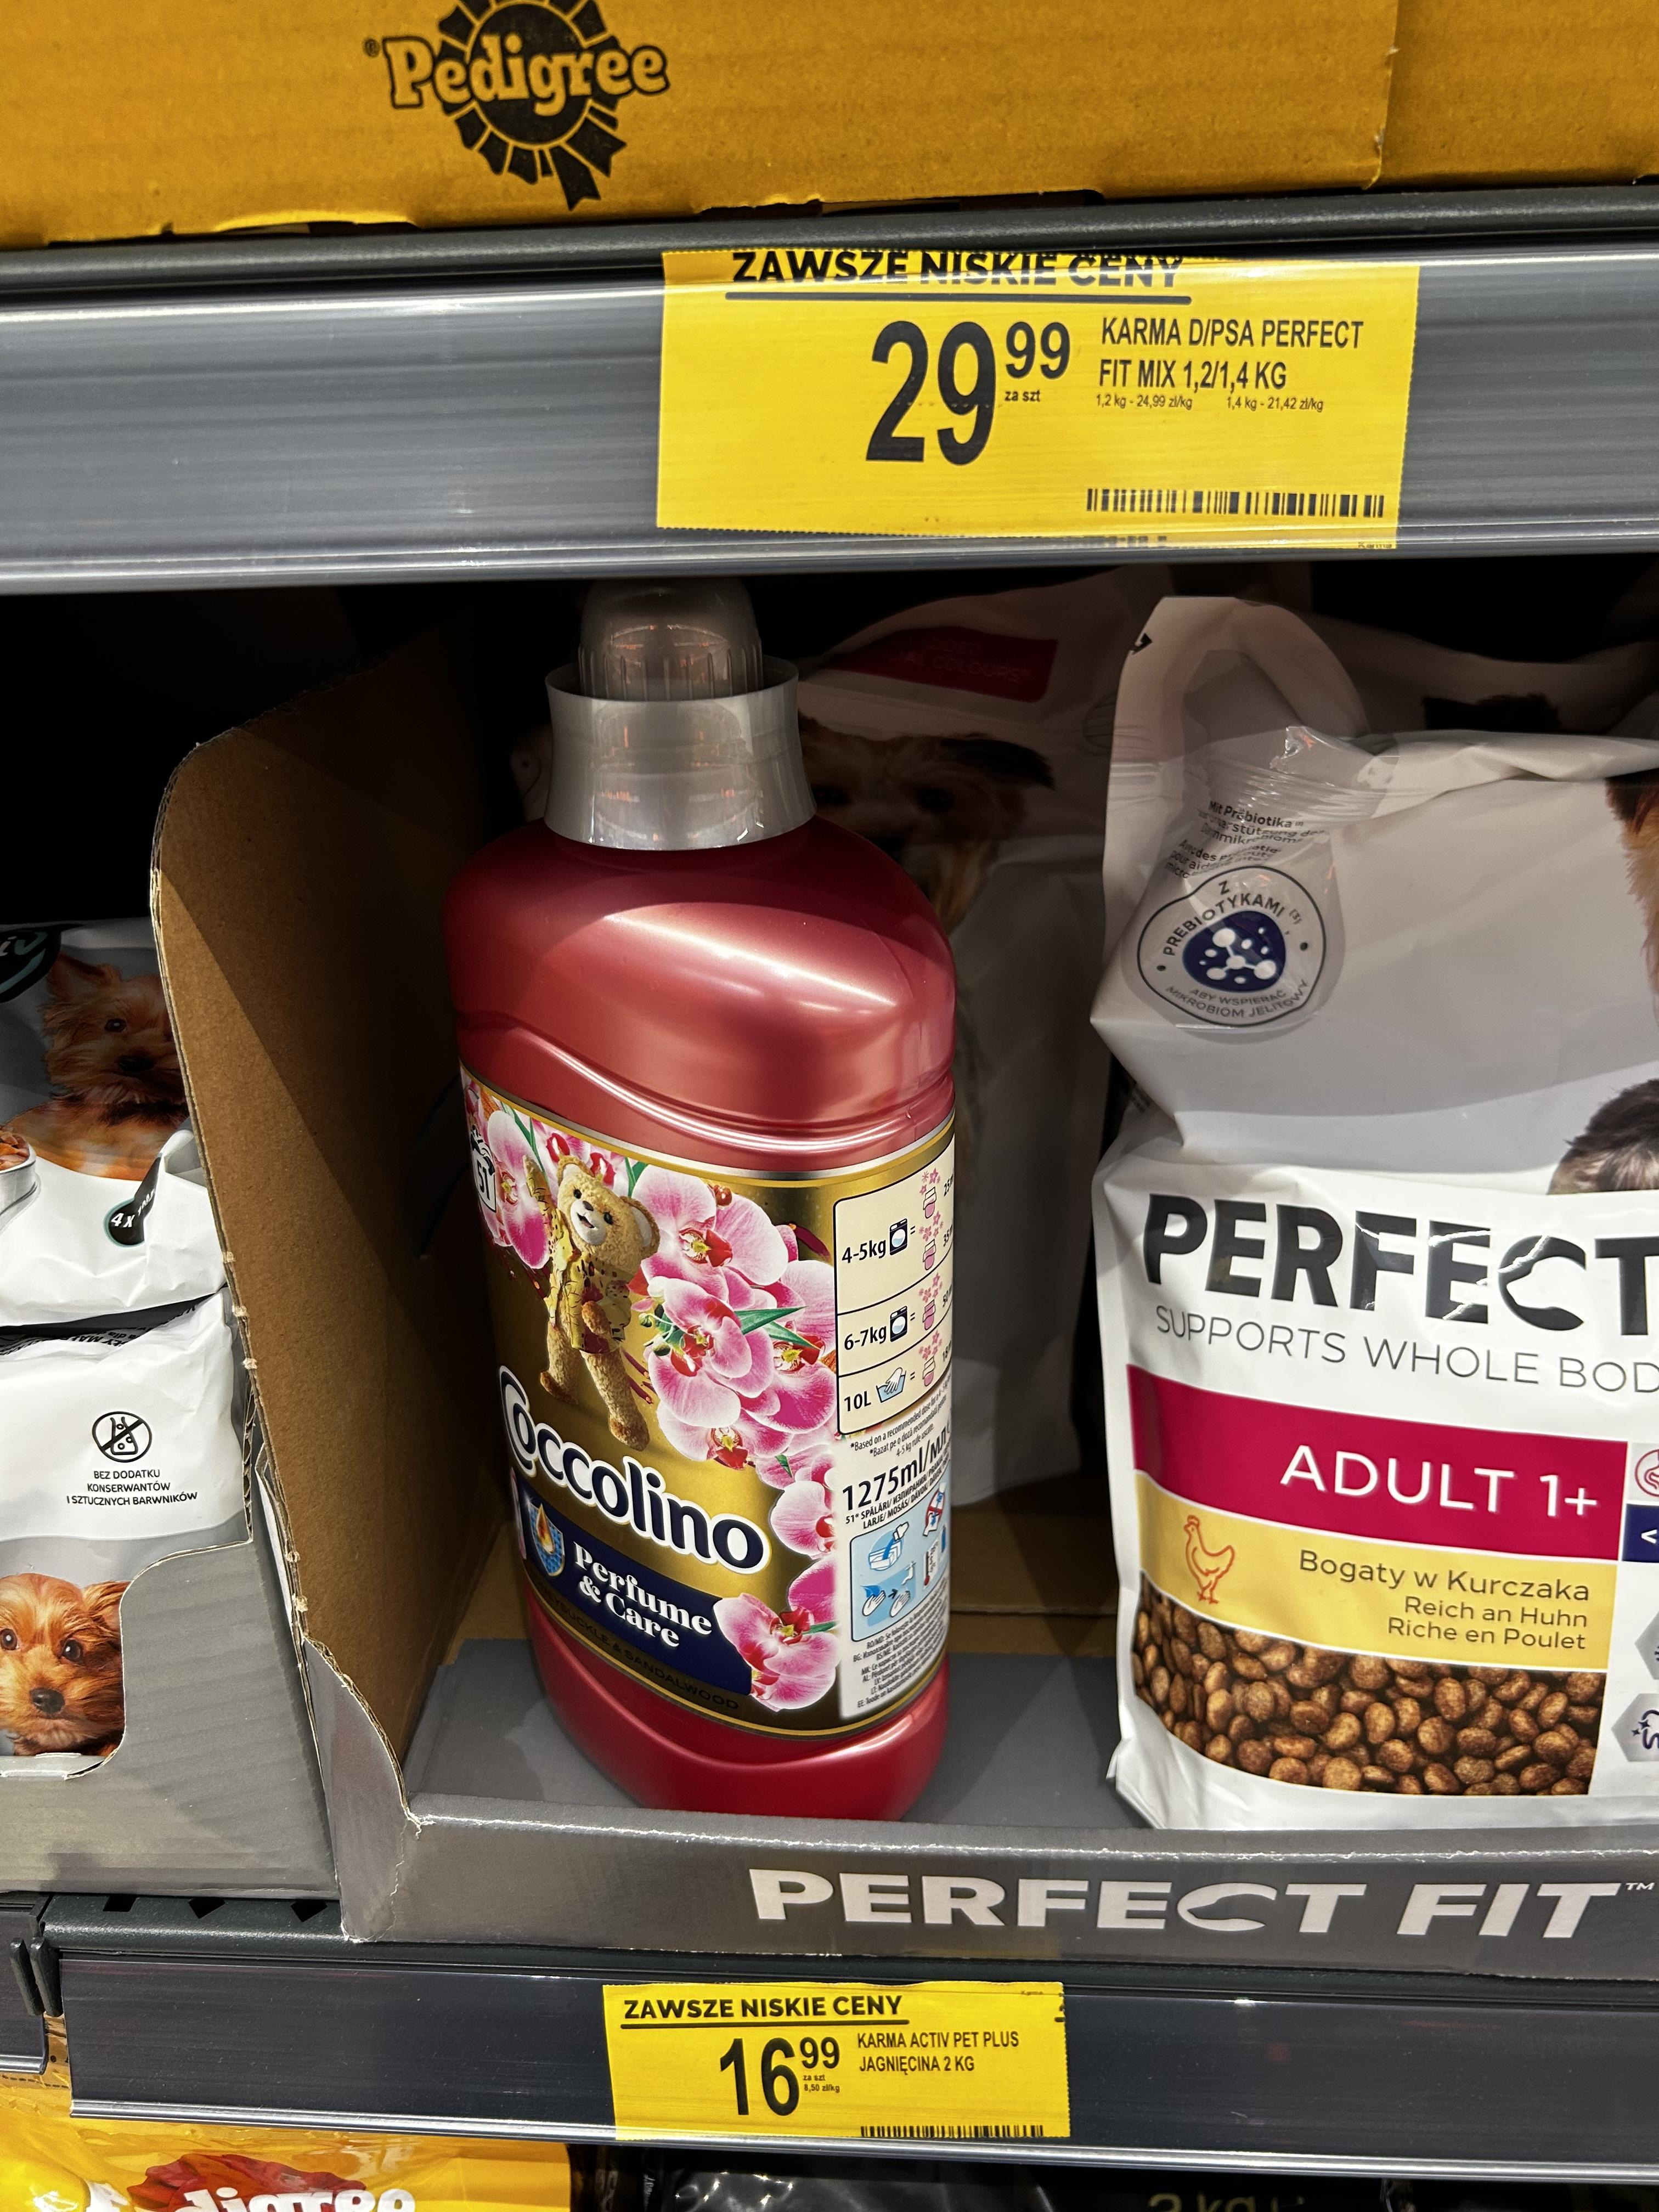cocolino: (420, 575, 974, 1839)
